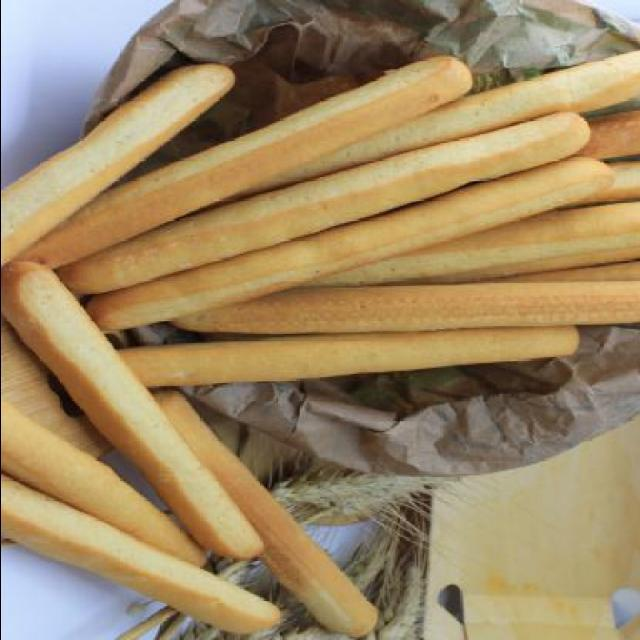Grissini: (0, 34, 638, 631)
